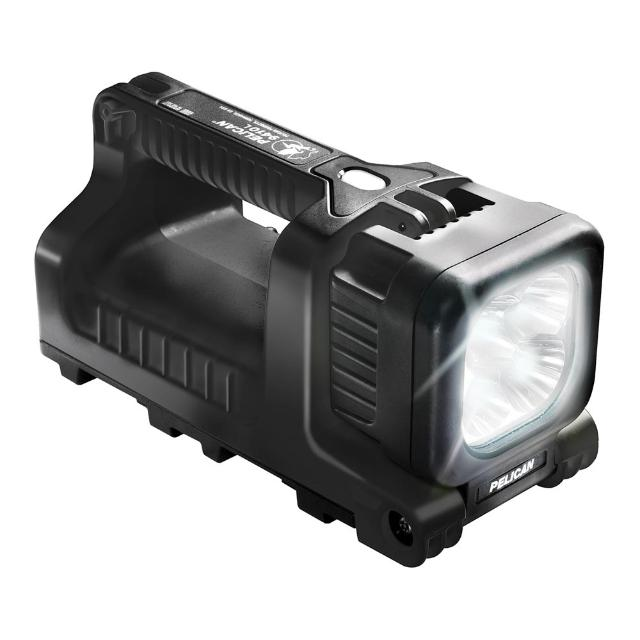Flashlight: (26, 62, 614, 574)
